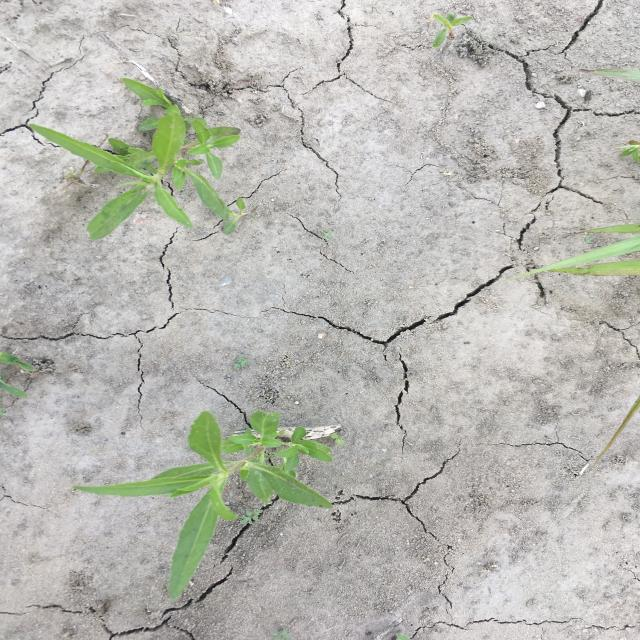Eclipta: (71, 409, 337, 601), (24, 75, 244, 243)
Waterhemp: (431, 12, 474, 48)
